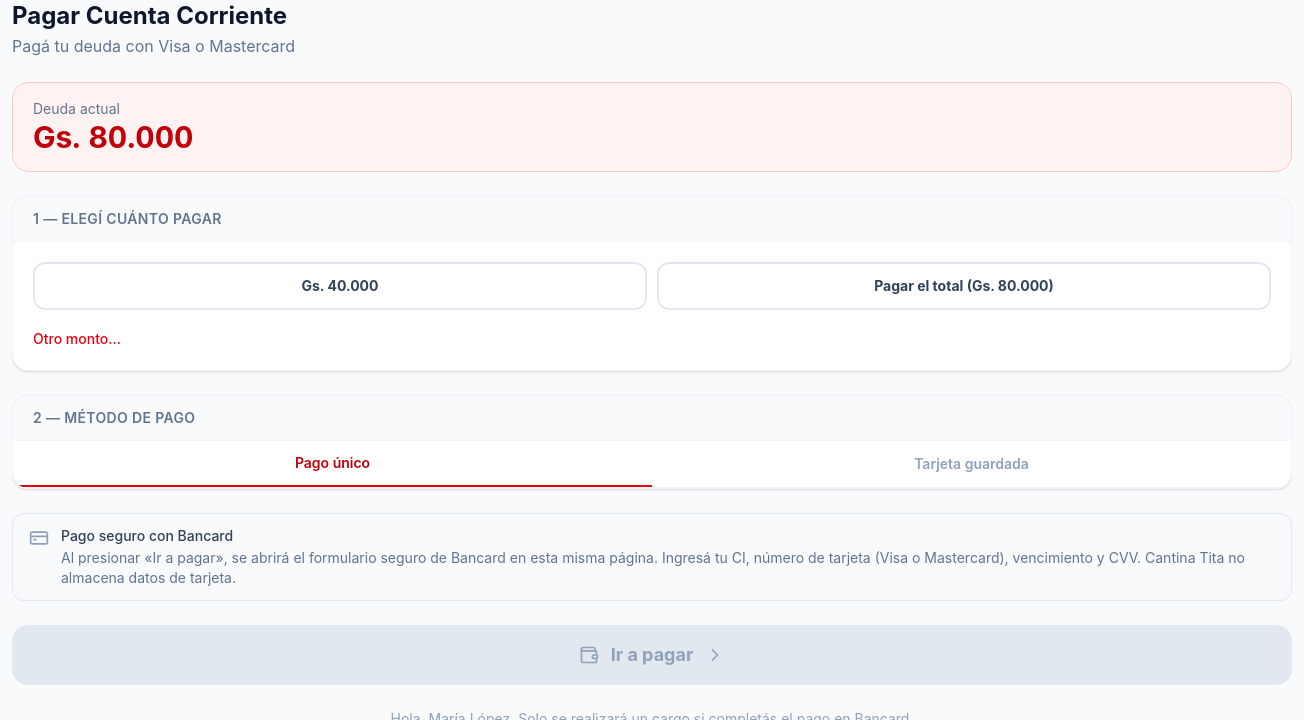
PagarCC — tarjeta guardada › pago con tarjeta guardada que requiere 3DS muestra el paso de verificación
The image size is (1304, 720).
Check: the text "Deuda actual" is shown, box [33,100,120,117]
What coordinates should you click on to do the following:
click the button "Pagar el total (Gs. 80.000)"
I would click on:
 (964, 286)
Its box is [657,262,1271,310].
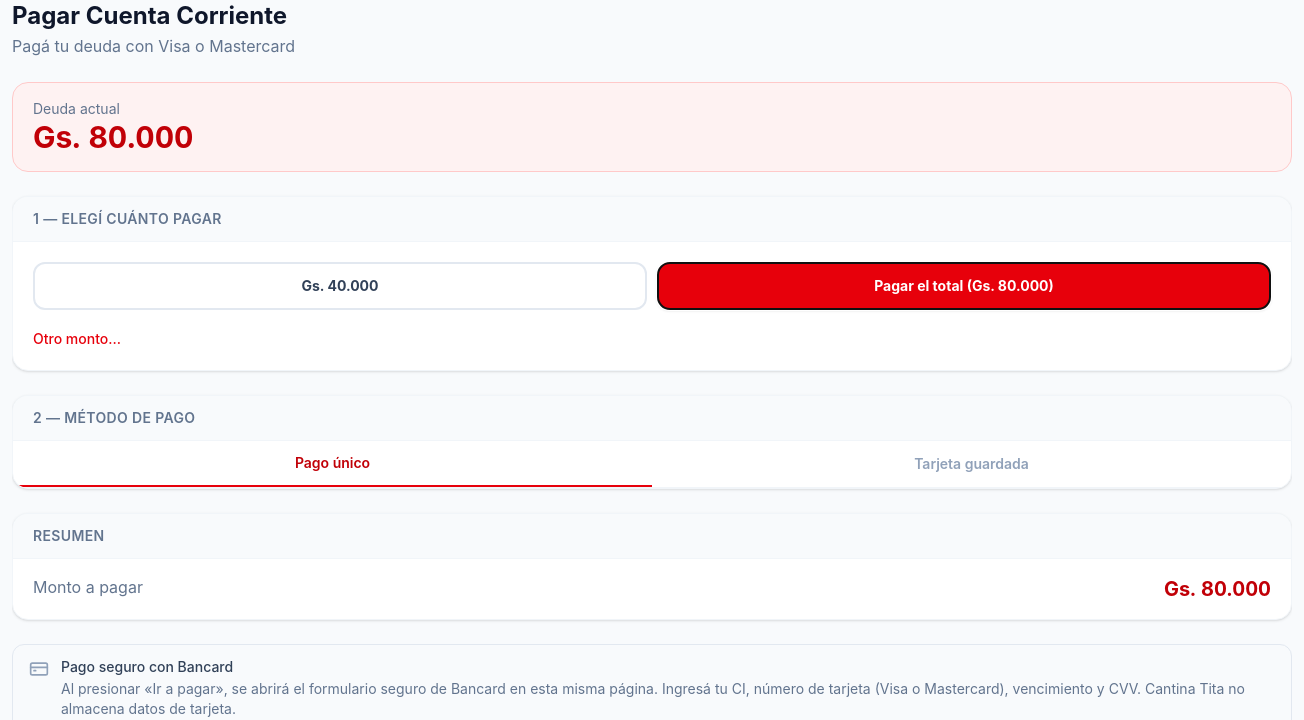
What coordinates should you click on to do the following:
click the button "Tarjeta guardada"
I would click on:
 (972, 464)
Its box is [652,441,1291,487].
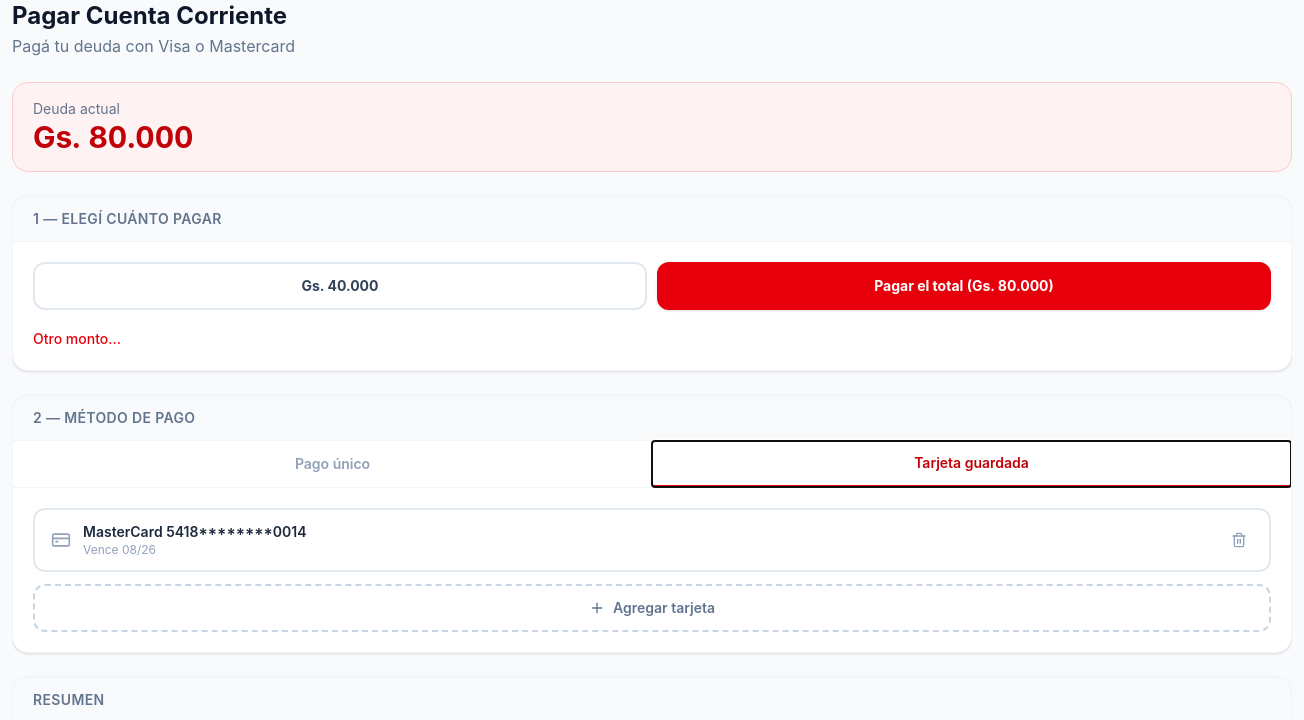
Check: the text "MasterCard 5418********0014" is shown
What coordinates should you click on to do the following:
click the text "MasterCard 5418********0014"
I would click on:
 (195, 532)
Its box is [83,522,307,542].
(page scrolled)
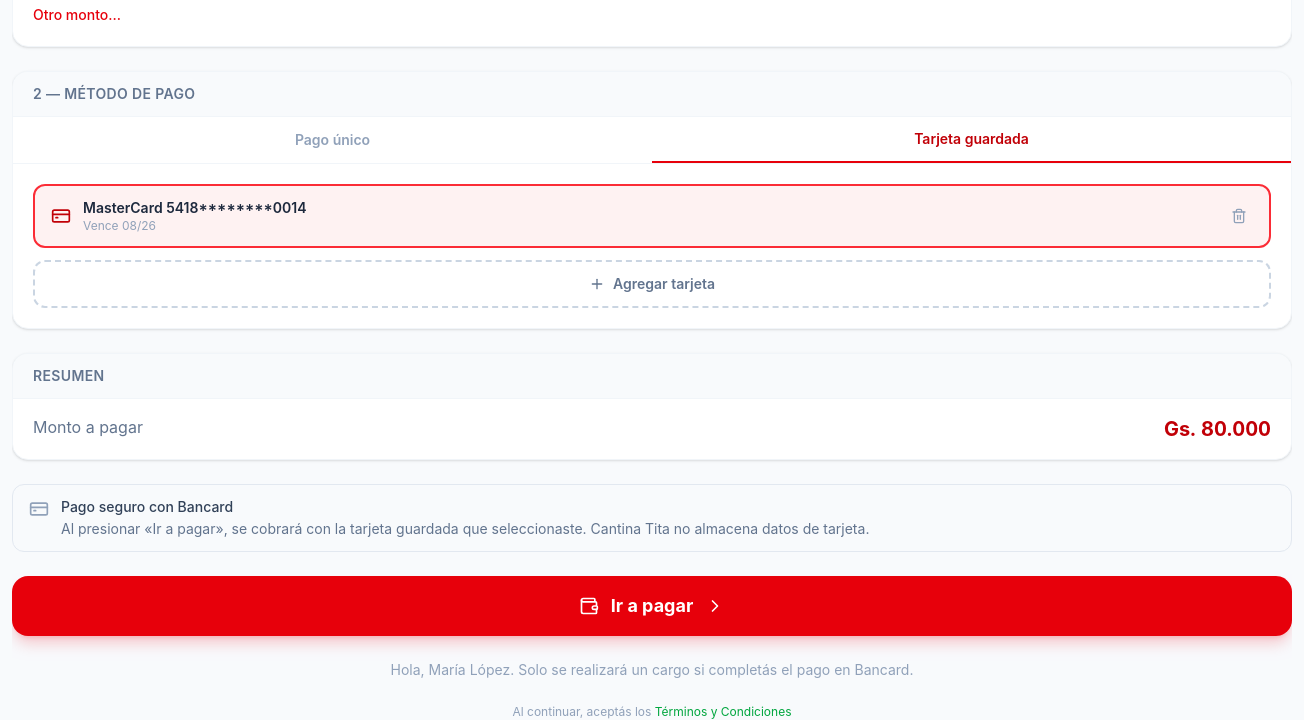
Check: the button "Ir a pagar" is enabled
What coordinates should you click on to do the following:
click the button "Ir a pagar"
I would click on:
 (652, 606)
Its box is [12,576,1292,636].
(page scrolled)
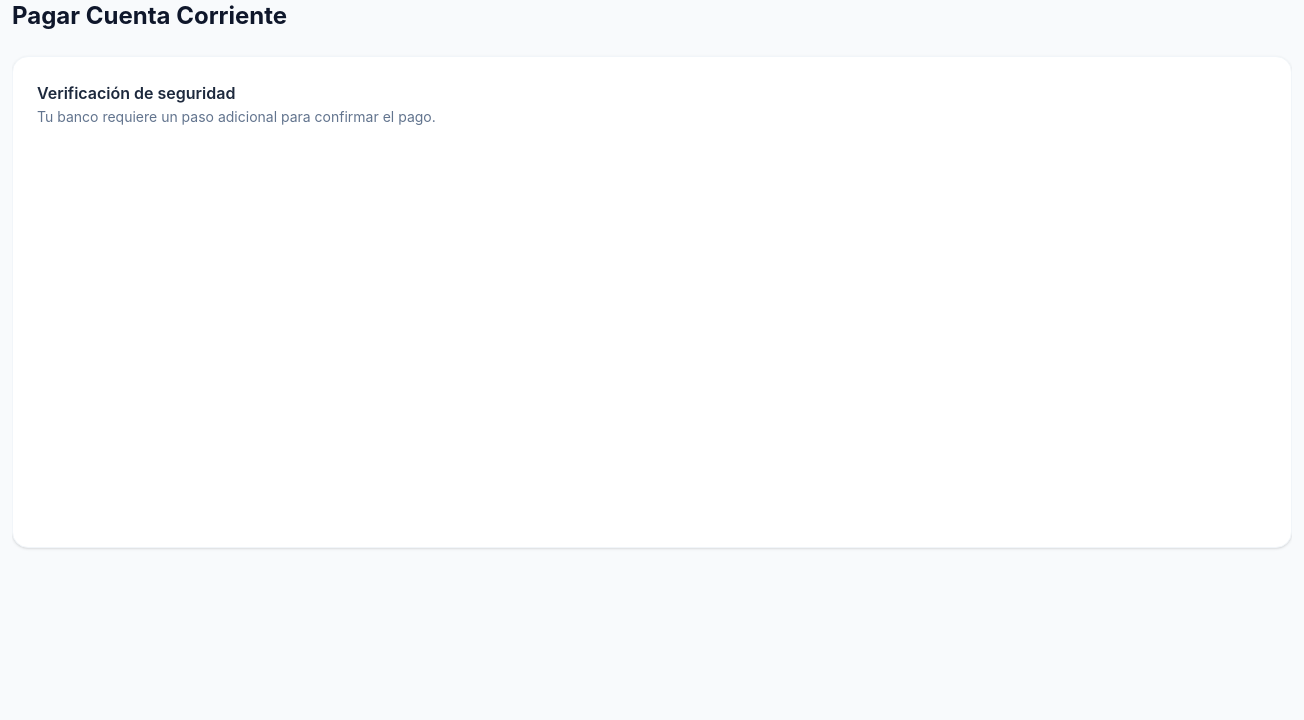
Check: the text "Verificación de seguridad" is shown, box [37,83,235,103]
